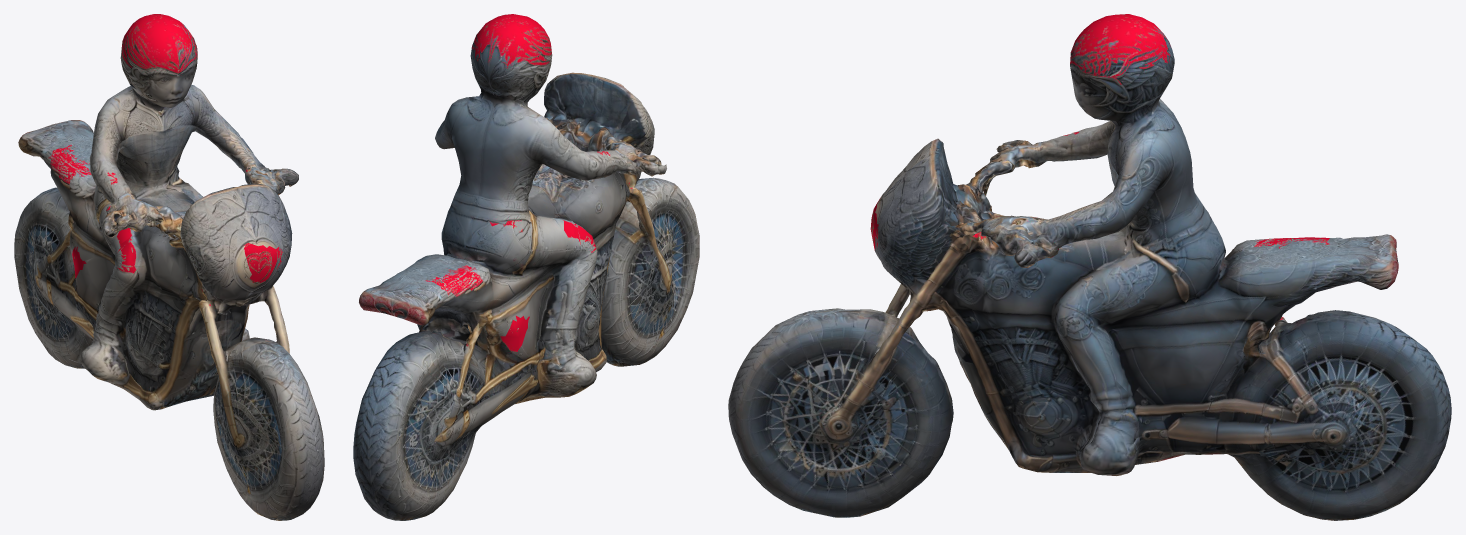
Rendered from prueba13D.glb.
3 views of the same model, side by side, from view 1: azimuth 30°, elevation 25°; view 2: azimuth 150°, elevation 25°; view 3: azimuth 270°, elevation 25° (orthographic). The views are drawn at different scales.
Parts seen in each view (by area): view 1: Mesh_0; view 2: Mesh_0; view 3: Mesh_0.
Boxes of the visible parts, box(x1,y1,x2,y2) form: Mesh_0: box(14, 14, 324, 520); Mesh_0: box(353, 14, 699, 520); Mesh_0: box(728, 14, 1451, 520).
Bounding box in the file's own units: 0.467 × 0.9133 × 1.2.
Materials: 1 (1 with a texture image).
